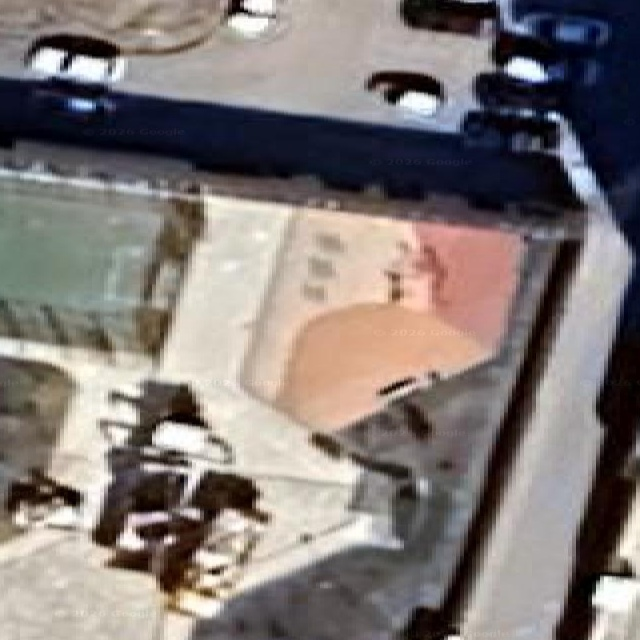car: (24, 34, 125, 120), (462, 110, 560, 151), (365, 71, 444, 117), (521, 13, 610, 52), (400, 0, 498, 34)
